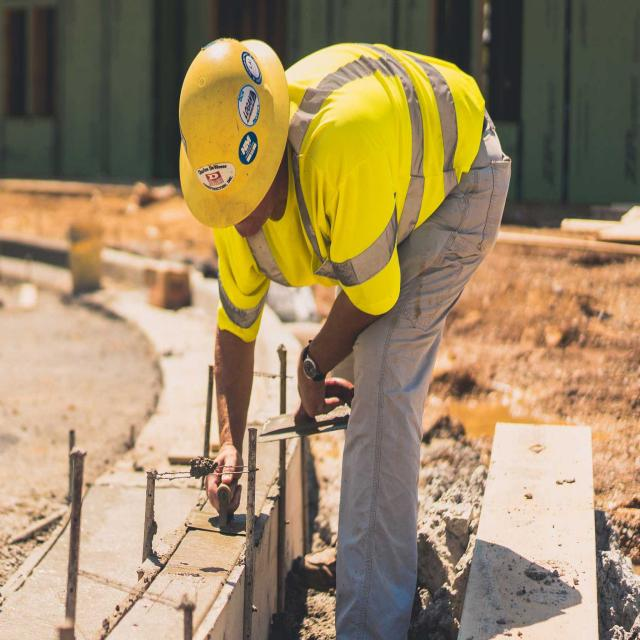Reflective-Jacket: (292, 43, 486, 308)
Safety-Helmet: (175, 28, 292, 230)
